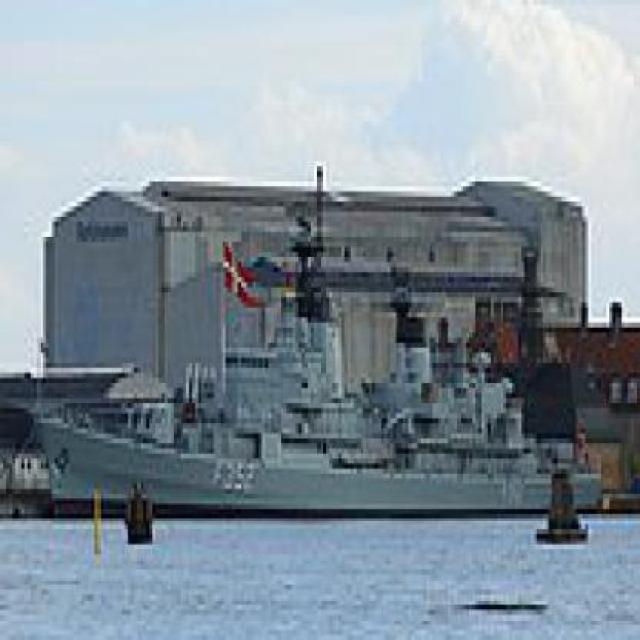warship2: (23, 233, 601, 540)
